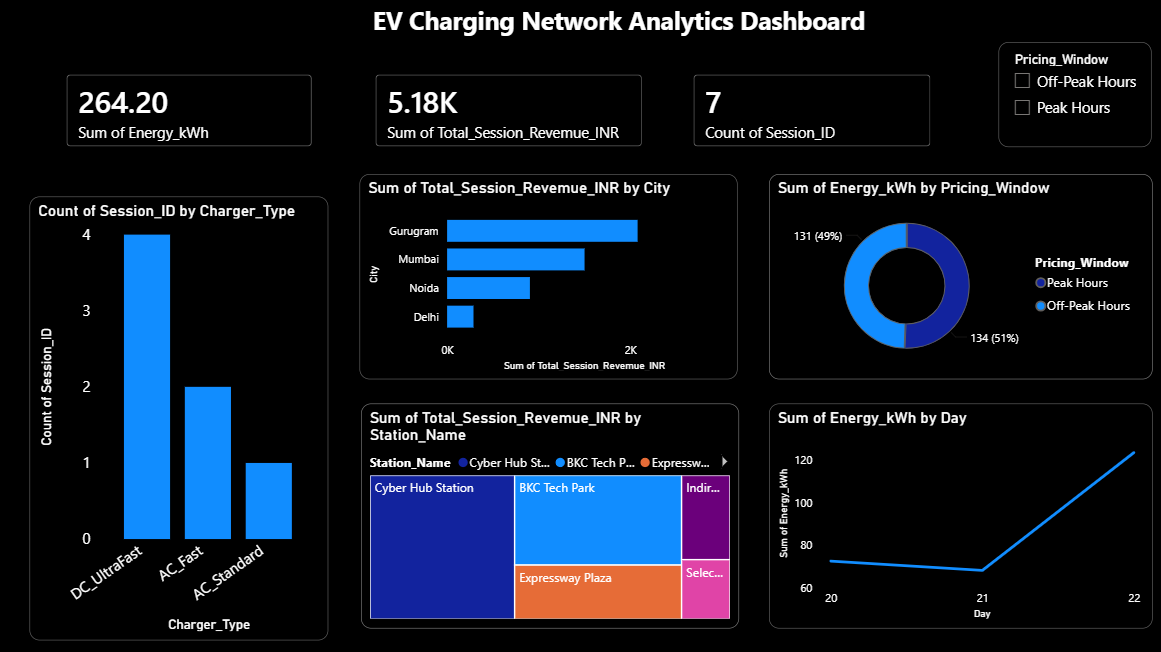

The dashboard page shown, as its layout file describes it:
{"tool":"powerbi","page":{"name":"Page 1","canvas":[1280,720],"ordinal":0},"visuals":[{"type":"cardVisual","fields":{"Data":["Sum(EV_Charging_Session_Data.Total_Session_Revemue_INR)"]},"box":[392,73.2,323.7,112.2],"z":0},{"type":"cardVisual","fields":{"Data":["Sum(EV_Charging_Session_Data.Energy_kWh)"]},"box":[56.9,73.2,300.9,112.2],"z":1000},{"type":"cardVisual","fields":{"Data":["Count(EV_Charging_Session_Data.Session_ID)"]},"box":[736.8,73.2,291.2,112.2],"z":2000},{"type":"textbox","box":[261.9,8.1,823,65.1],"z":3000},{"type":"clusteredBarChart","fields":{"Category":["EV_Charging_Session_Data.City"],"Y":["Sum(EV_Charging_Session_Data.Total_Session_Revemue_INR)"]},"box":[391.2,198.4,410.1,223],"z":4000},{"type":"donutChart","fields":{"Category":["EV_Charging_Session_Data.Pricing_Window"],"Y":["Sum(EV_Charging_Session_Data.Energy_kWh)"]},"box":[835.3,198.4,415.8,223],"z":5000},{"type":"slicer","fields":{"Values":["EV_Charging_Session_Data.Pricing_Window"]},"box":[1084.9,55.3,165.9,113.9],"z":6000},{"type":"lineChart","fields":{"Category":["EV_Charging_Session_Data.Start_Time.Variation.Date Hierarchy.Day"],"Y":["Sum(EV_Charging_Session_Data.Energy_kWh)"]},"box":[835.3,447.9,415.8,243.8],"z":7000},{"type":"clusteredColumnChart","fields":{"Category":["EV_Charging_Session_Data.Charger_Type"],"Y":["CountNonNull(EV_Charging_Session_Data.Session_ID)"]},"box":[34.2,222.8,323.7,481.5],"z":8000},{"type":"treemap","fields":{"Group":["EV_Charging_Session_Data.Station_Name"],"Values":["Sum(EV_Charging_Session_Data.Total_Session_Revemue_INR)"]},"box":[393.1,447.9,410.1,243.8],"z":8001}]}

Visuals, with their boxes in screenshot pixels (x1, y1, x2, y2), scaled from the page's 1280x720 canvas onto the 1161x652 screenshot:
cardVisual - Sum(EV_Charging_Session_Data.Total_Session_Revemue_INR): (x1=356, y1=66, x2=649, y2=168)
cardVisual - Sum(EV_Charging_Session_Data.Energy_kWh): (x1=52, y1=66, x2=325, y2=168)
cardVisual - Count(EV_Charging_Session_Data.Session_ID): (x1=668, y1=66, x2=932, y2=168)
textbox: (x1=238, y1=7, x2=984, y2=66)
clusteredBarChart - EV_Charging_Session_Data.City x Sum(EV_Charging_Session_Data.Total_Session_Revemue_INR): (x1=355, y1=180, x2=727, y2=382)
donutChart - EV_Charging_Session_Data.Pricing_Window x Sum(EV_Charging_Session_Data.Energy_kWh): (x1=758, y1=180, x2=1135, y2=382)
slicer - EV_Charging_Session_Data.Pricing_Window: (x1=984, y1=50, x2=1135, y2=153)
lineChart - EV_Charging_Session_Data.Start_Time.Variation.Date Hierarchy.Day x Sum(EV_Charging_Session_Data.Energy_kWh): (x1=758, y1=406, x2=1135, y2=626)
clusteredColumnChart - EV_Charging_Session_Data.Charger_Type x CountNonNull(EV_Charging_Session_Data.Session_ID): (x1=31, y1=202, x2=325, y2=638)
treemap - EV_Charging_Session_Data.Station_Name x Sum(EV_Charging_Session_Data.Total_Session_Revemue_INR): (x1=357, y1=406, x2=729, y2=626)
